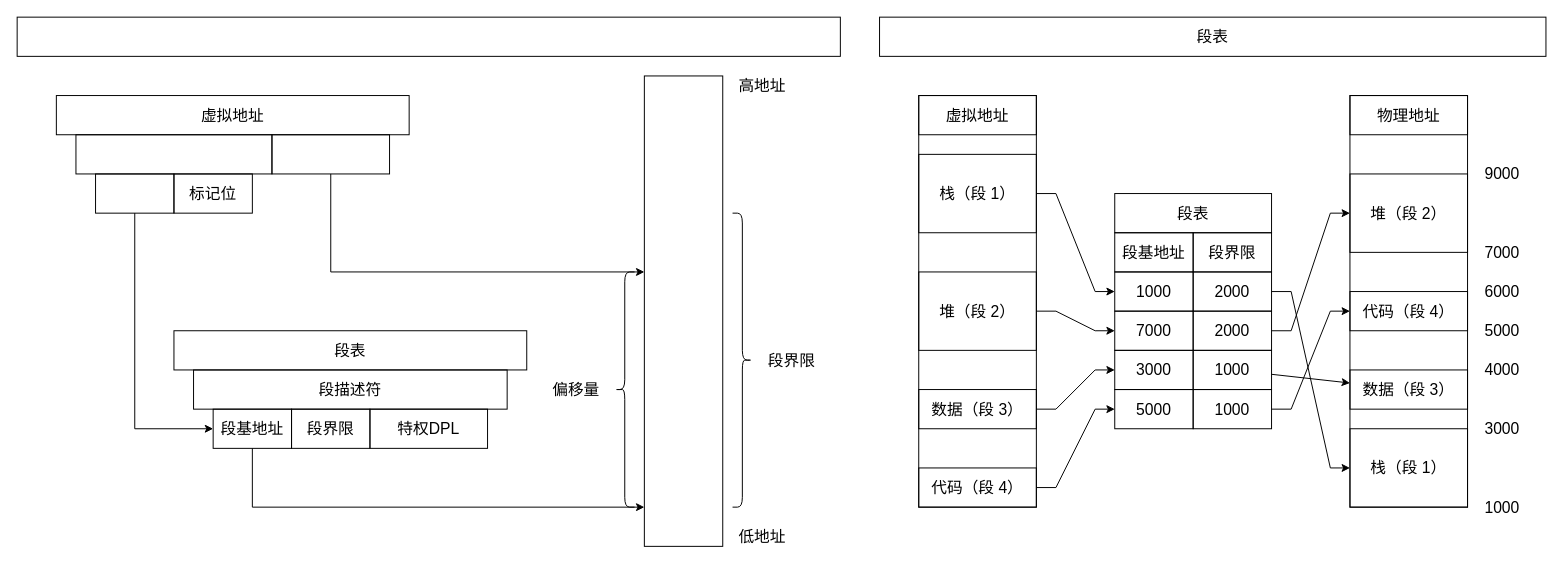
Some shapes in this 1563 by 564 pixel diagram are drawn without their labels. Here are the shapes that lost their labels. From the top down, the centre of each, then its label:
At point 428,36: "段式管理".
At point 173,154: "段选择子".
At point 330,154: "段内偏移量".
At point 134,193: "段号".
At point 683,310: "内存".
